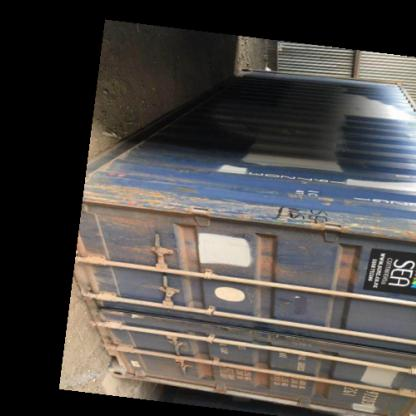Damage: (82, 182, 192, 218), (263, 204, 332, 238), (334, 244, 368, 292), (249, 250, 292, 282), (312, 366, 344, 402), (180, 226, 204, 272), (189, 353, 224, 383), (250, 358, 274, 392)
